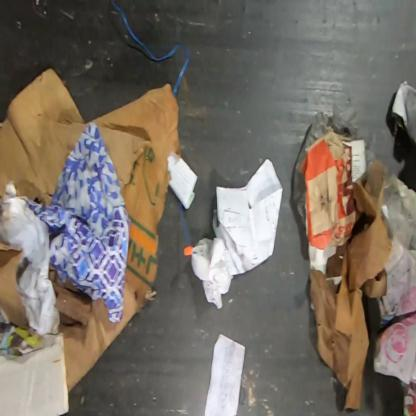cardboard: (0, 64, 180, 398), (308, 160, 393, 411), (298, 131, 356, 251), (0, 241, 31, 331)
soft_plastic: (292, 102, 377, 232), (381, 174, 415, 308)
